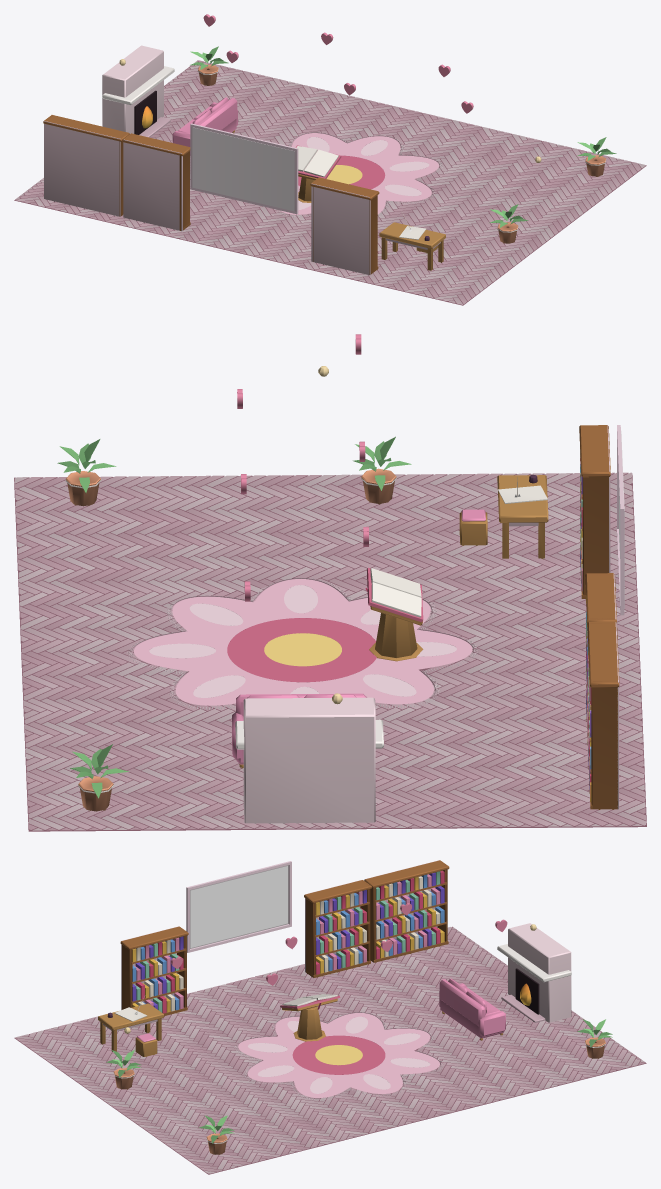
File: zon_room_diary_lite.glb
3 renders of one model, top to bottom at view 1: azimuth 30°, elevation 25°; view 2: azimuth 150°, elevation 25°; view 3: azimuth 270°, elevation 25°, orthographic. The views are drawn at different scales.
Parts seen in each view (by area): view 1: SM_zon_room_diary_lite_room_floor_wood_xm1_z0, SM_zon_room_diary_lite_room_floor_plaster_xm1_z0, SM_zon_room_diary_lite_room_rug_fabric_xm1_z0, SM_zon_room_diary_lite_room_floor_fabric_xm1_z0, SM_zon_room_diary_lite_room_floor_gloss_xm1_z0, SM_zon_room_diary_lite_room_floor_glaze_xm1_z0; view 2: SM_zon_room_diary_lite_room_floor_wood_xm1_z0, SM_zon_room_diary_lite_room_rug_fabric_xm1_z0, SM_zon_room_diary_lite_room_floor_plaster_xm1_z0, SM_zon_room_diary_lite_room_floor_gloss_xm1_z0, SM_zon_room_diary_lite_room_floor_glaze_xm1_z0, SM_zon_room_diary_lite_room_floor_fabric_xm1_z0; view 3: SM_zon_room_diary_lite_room_floor_wood_xm1_z0, SM_zon_room_diary_lite_room_floor_plaster_xm1_z0, SM_zon_room_diary_lite_room_rug_fabric_xm1_z0, SCREEN_fur_screen_diary__0, SM_zon_room_diary_lite_room_floor_fabric_xm1_z0, SM_zon_room_diary_lite_room_floor_gloss_xm1_z0, SM_zon_room_diary_lite_room_floor_glaze_xm1_z0.
Boxes of the visible parts, x1,y1,x2,y2 form: SM_zon_room_diary_lite_room_floor_wood_xm1_z0: (14, 60, 646, 305); SM_zon_room_diary_lite_room_floor_plaster_xm1_z0: (44, 45, 440, 275); SM_zon_room_diary_lite_room_rug_fabric_xm1_z0: (275, 132, 442, 216); SM_zon_room_diary_lite_room_floor_fabric_xm1_z0: (172, 68, 597, 227); SM_zon_room_diary_lite_room_floor_gloss_xm1_z0: (197, 64, 606, 243); SM_zon_room_diary_lite_room_floor_glaze_xm1_z0: (190, 46, 616, 227); SM_zon_room_diary_lite_room_floor_wood_xm1_z0: (14, 425, 646, 831); SM_zon_room_diary_lite_room_rug_fabric_xm1_z0: (127, 577, 478, 709); SM_zon_room_diary_lite_room_floor_plaster_xm1_z0: (235, 425, 624, 823); SM_zon_room_diary_lite_room_floor_gloss_xm1_z0: (65, 468, 537, 811); SM_zon_room_diary_lite_room_floor_glaze_xm1_z0: (57, 436, 411, 798); SM_zon_room_diary_lite_room_floor_fabric_xm1_z0: (232, 509, 485, 764); SM_zon_room_diary_lite_room_floor_wood_xm1_z0: (14, 860, 646, 1174); SM_zon_room_diary_lite_room_floor_plaster_xm1_z0: (103, 860, 571, 1031); SM_zon_room_diary_lite_room_rug_fabric_xm1_z0: (235, 1012, 442, 1100); SCREEN_fur_screen_diary__0: (190, 866, 287, 947); SM_zon_room_diary_lite_room_floor_fabric_xm1_z0: (124, 978, 596, 1138); SM_zon_room_diary_lite_room_floor_gloss_xm1_z0: (107, 1012, 605, 1154); SM_zon_room_diary_lite_room_floor_glaze_xm1_z0: (106, 1019, 612, 1143).
Bounding box in the file's own units: 17.57 × 4.05 × 18.93.
